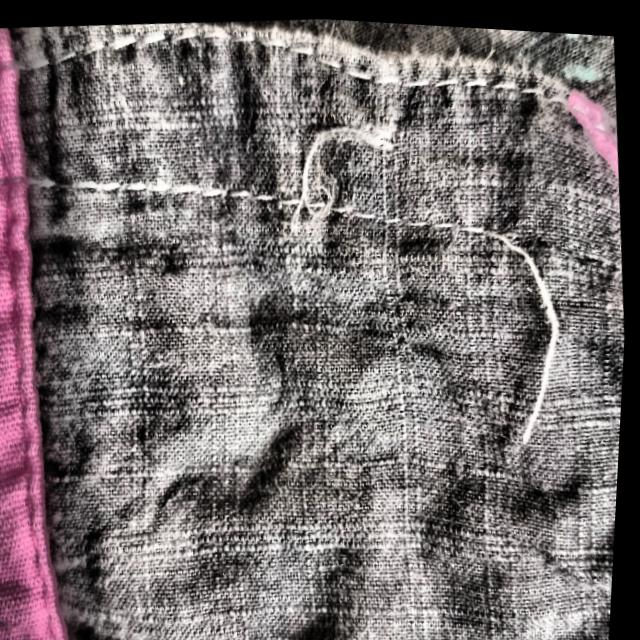Stitch: (241, 77, 616, 371)
